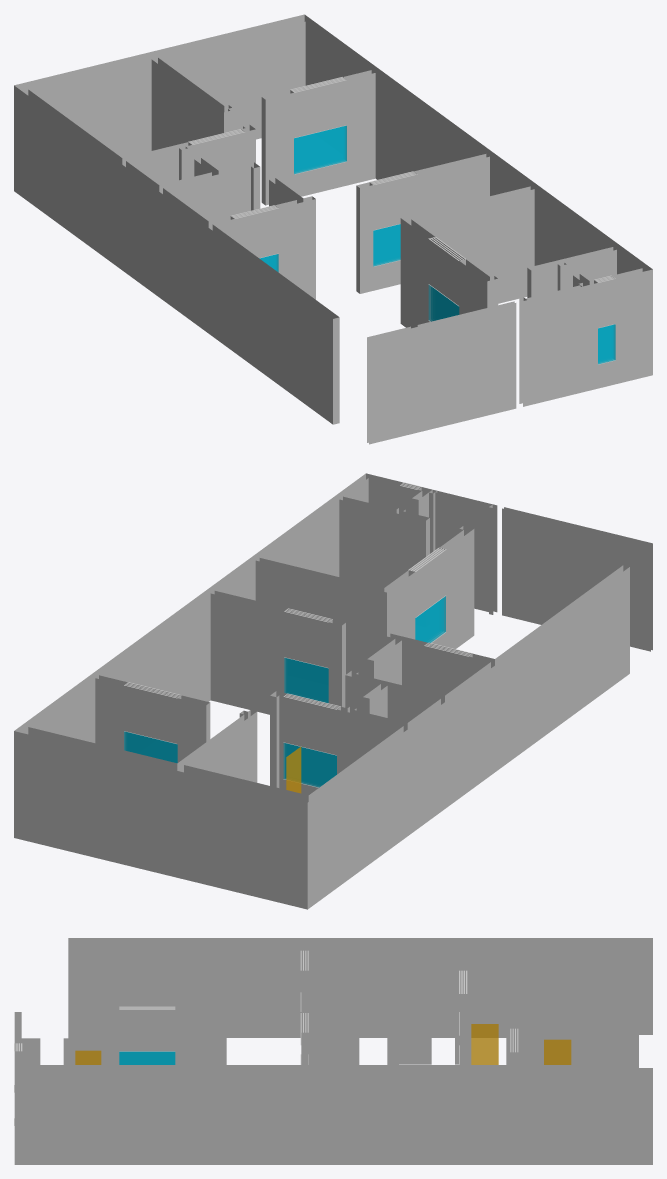
Rendered from 91e98d1e-a3e4-4c99-bbb9-40e25e035e17_no_roof.glb.
The picture shows the model from 3 angles, top to bottom: view 1: azimuth 30°, elevation 25°; view 2: azimuth 150°, elevation 25°; view 3: azimuth 270°, elevation 25°; orthographic projection. The views are drawn at different scales.
Visible parts, largest first — view 1: walls, windows; view 2: walls, windows, doors; view 3: walls, doors, windows.
Boxes of the visible parts, x1=… form: walls: x1=14, y1=14, x2=652, y2=444; windows: x1=259, y1=125, x2=615, y2=364; walls: x1=14, y1=473, x2=652, y2=909; windows: x1=124, y1=596, x2=445, y2=787; doors: x1=286, y1=746, x2=301, y2=793; walls: x1=14, y1=938, x2=652, y2=1164; doors: x1=75, y1=1024, x2=571, y2=1064; windows: x1=119, y1=1051, x2=175, y2=1064.
Bounding box in the file's own units: 10.06 × 3.5 × 20.9.
